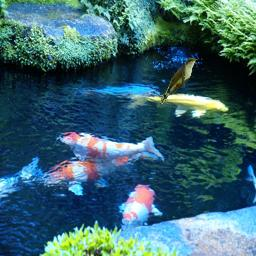Cuckoo: (160, 58, 198, 104)
